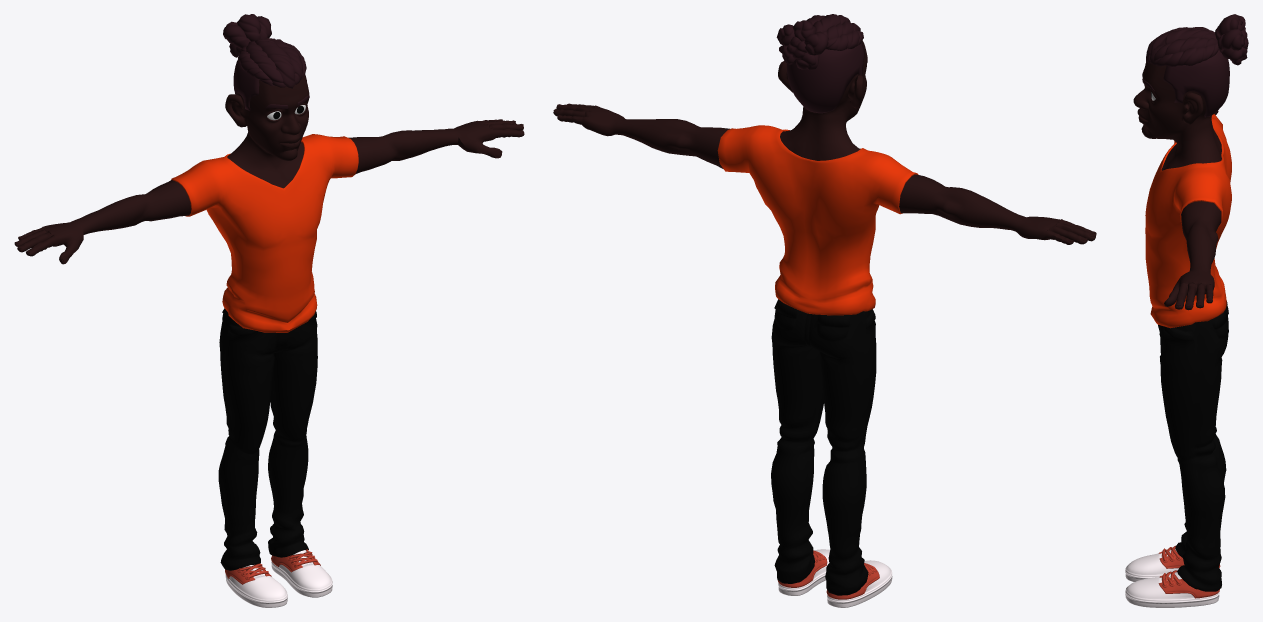
The model's file is Prototipo_Char.fbx.
The picture shows the model from 3 angles, left to right: view 1: azimuth 30°, elevation 25°; view 2: azimuth 150°, elevation 25°; view 3: azimuth 270°, elevation 25°; orthographic projection. The views are drawn at different scales.
Parts seen in each view (by area): view 1: GEO-snow_bodyy.049, GEO-snow_bodyy.050, GEO-snow_bodyy.052, GEO-snow_bodyy.051, GEO-snow_bodyy.010, GEO-snow_bodyy.009, GEO-snow_bodyy.011; view 2: GEO-snow_bodyy.049, GEO-snow_bodyy.050, GEO-snow_bodyy.009, GEO-snow_bodyy.052; view 3: GEO-snow_bodyy.049, GEO-snow_bodyy.050, GEO-snow_bodyy.009, GEO-snow_bodyy.051, GEO-snow_bodyy.052, GEO-snow_bodyy.014, GEO-snow_bodyy.013, GEO-snow_bodyy.010, GEO-snow_bodyy.053, GEO-snow_bodyy.019, GEO-snow_bodyy.020, GEO-snow_bodyy.018 (+1 smaller).
Boxes of the visible parts, x1,y1,x2,y2 form: GEO-snow_bodyy.049: (14, 75, 524, 332); GEO-snow_bodyy.050: (218, 308, 317, 570); GEO-snow_bodyy.052: (225, 565, 287, 607); GEO-snow_bodyy.051: (271, 550, 332, 597); GEO-snow_bodyy.010: (255, 38, 295, 88); GEO-snow_bodyy.009: (233, 60, 306, 111); GEO-snow_bodyy.011: (246, 41, 286, 87); GEO-snow_bodyy.049: (553, 40, 1096, 315); GEO-snow_bodyy.050: (771, 299, 876, 595); GEO-snow_bodyy.009: (786, 42, 864, 113); GEO-snow_bodyy.052: (827, 560, 892, 607); GEO-snow_bodyy.049: (1133, 62, 1231, 328); GEO-snow_bodyy.050: (1158, 301, 1228, 591); GEO-snow_bodyy.009: (1163, 50, 1229, 117); GEO-snow_bodyy.051: (1125, 572, 1219, 607); GEO-snow_bodyy.052: (1125, 549, 1178, 581); GEO-snow_bodyy.014: (1152, 43, 1219, 66); GEO-snow_bodyy.013: (1147, 37, 1217, 63); GEO-snow_bodyy.010: (1146, 29, 1216, 62); GEO-snow_bodyy.053: (1158, 572, 1219, 598); GEO-snow_bodyy.019: (1217, 29, 1244, 50); GEO-snow_bodyy.020: (1215, 14, 1243, 40); GEO-snow_bodyy.018: (1219, 47, 1247, 65).
Bounding box in the file's own units: 179 × 186 × 36.42.
